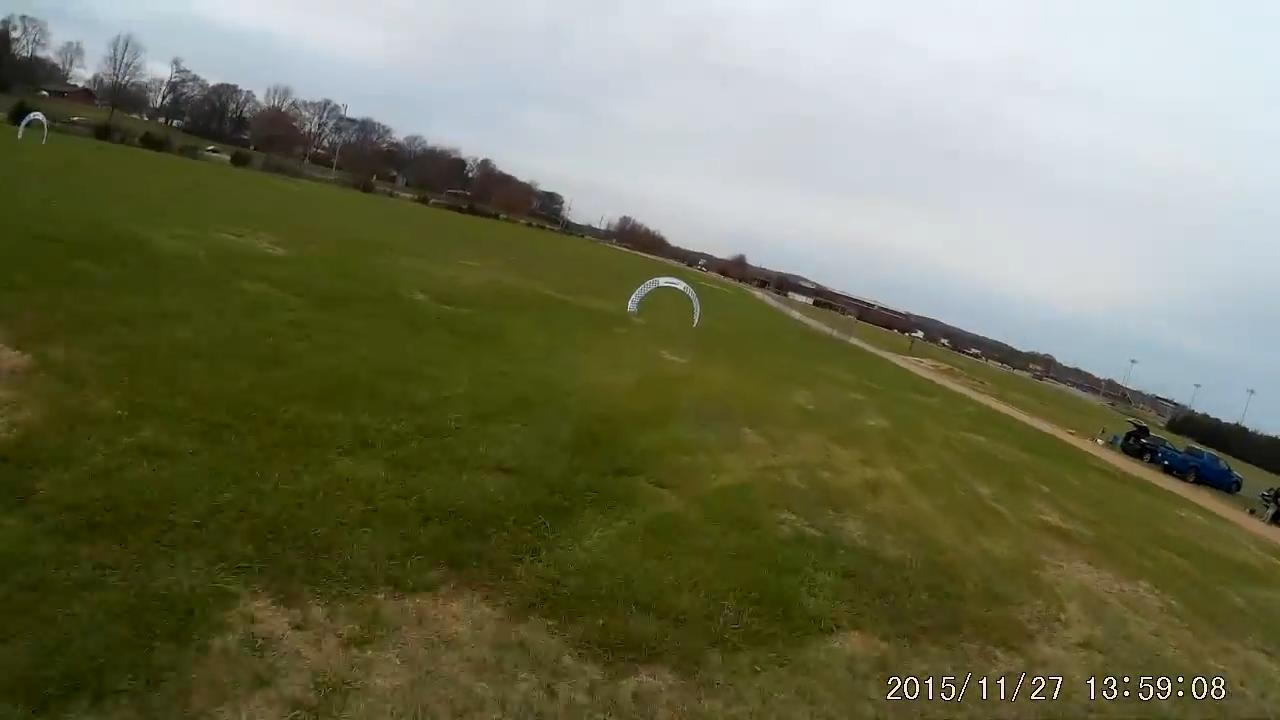gate: (626, 276, 703, 331)
